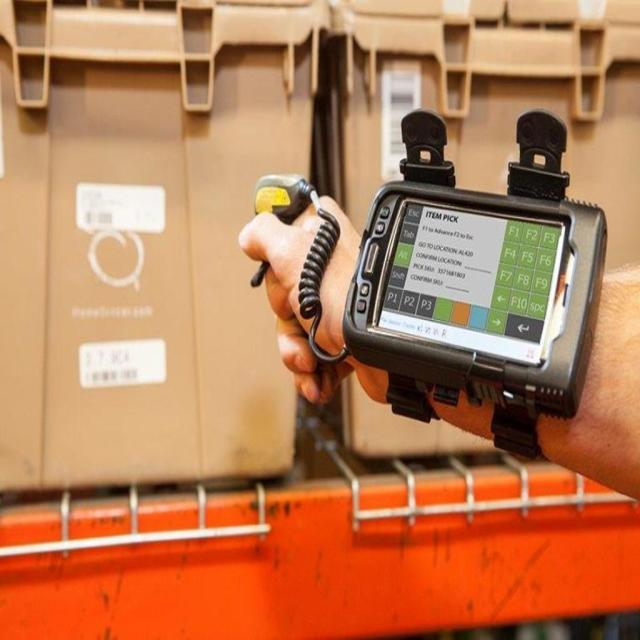Mobile-phone: (311, 134, 604, 448)
